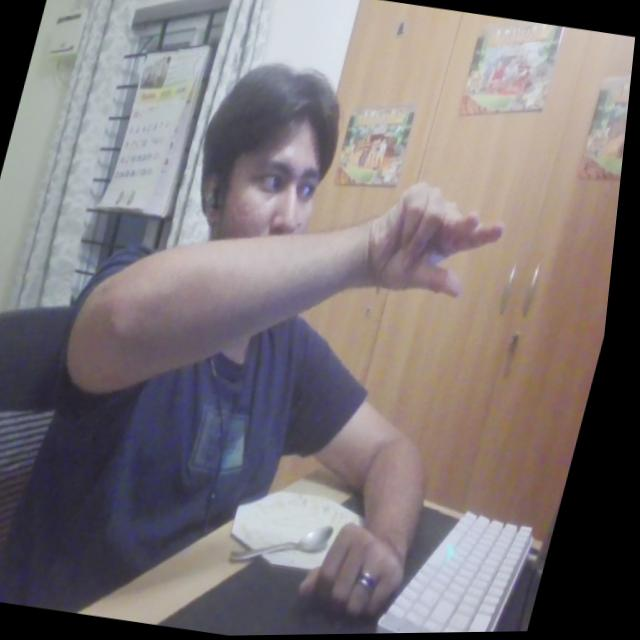no: (355, 170, 535, 333)
